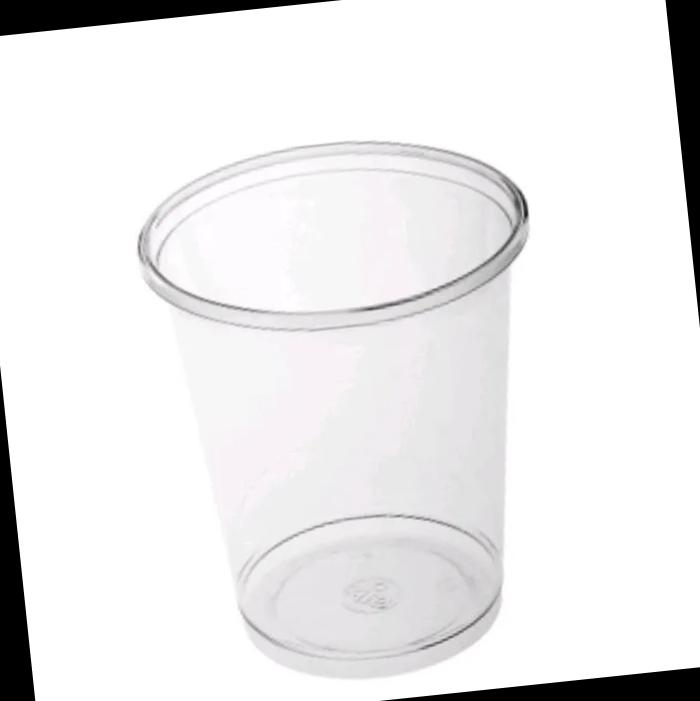Plastik: (139, 143, 526, 676)
